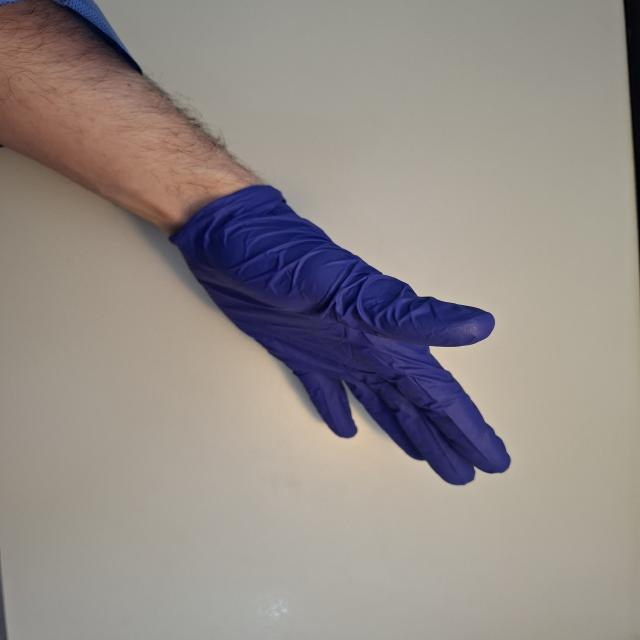glove_on: (162, 182, 516, 486)
